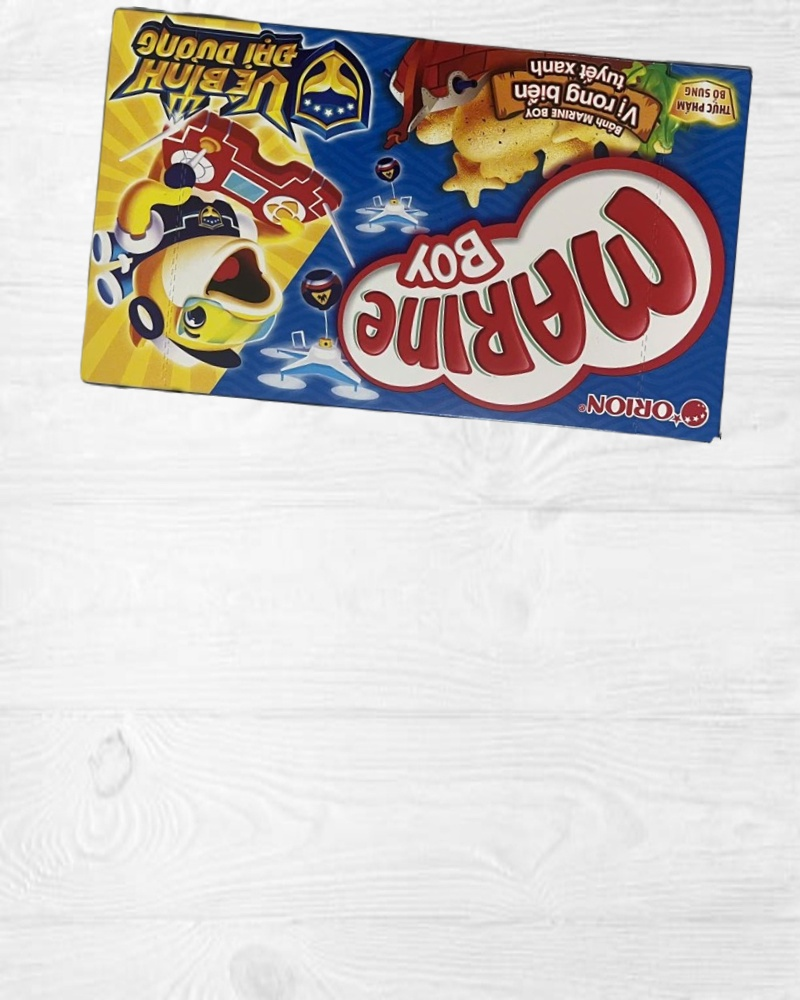Marine: (78, 7, 754, 444)
